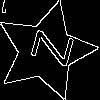Z: (21, 26, 74, 67)
